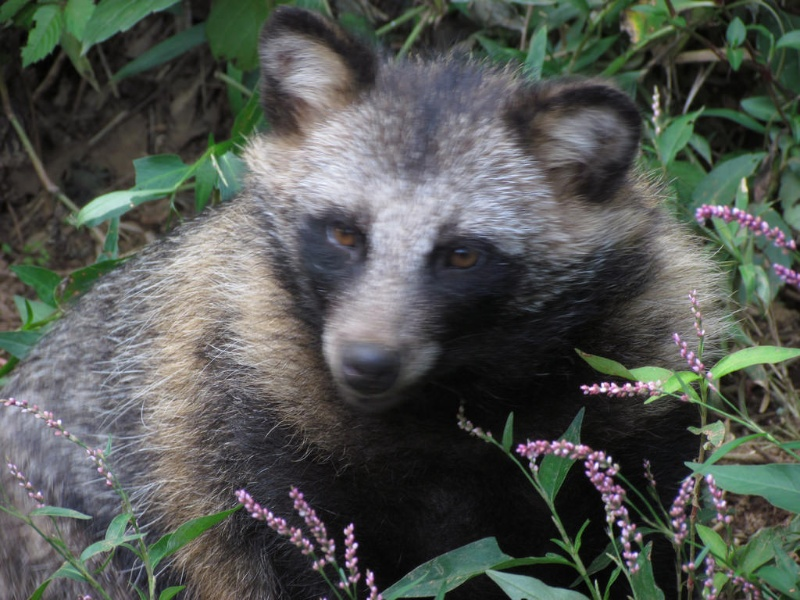raccoon: (7, 11, 749, 584)
